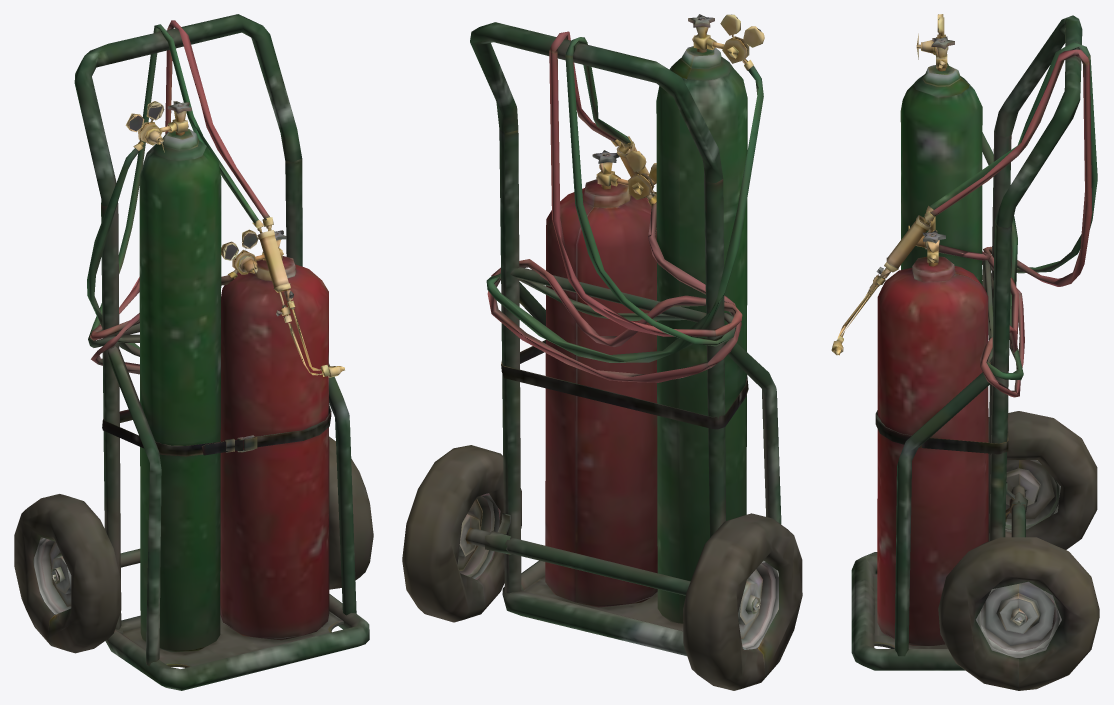
The model's file is welding_cart.glb.
3 renders of one model, left to right at view 1: azimuth 30°, elevation 25°; view 2: azimuth 150°, elevation 25°; view 3: azimuth 270°, elevation 25°, orthographic. The views are drawn at different scales.
Visible parts, largest first — view 1: portable_welding_cart; view 2: portable_welding_cart; view 3: portable_welding_cart.
Boxes of the visible parts, <box> form: portable_welding_cart: <box>14,14,373,690</box>; portable_welding_cart: <box>402,14,802,690</box>; portable_welding_cart: <box>831,14,1099,690</box>.
Size of the model in its own units: 0.8366 by 1.56 by 0.6549.
Materials: 2 (2 with a texture image).
